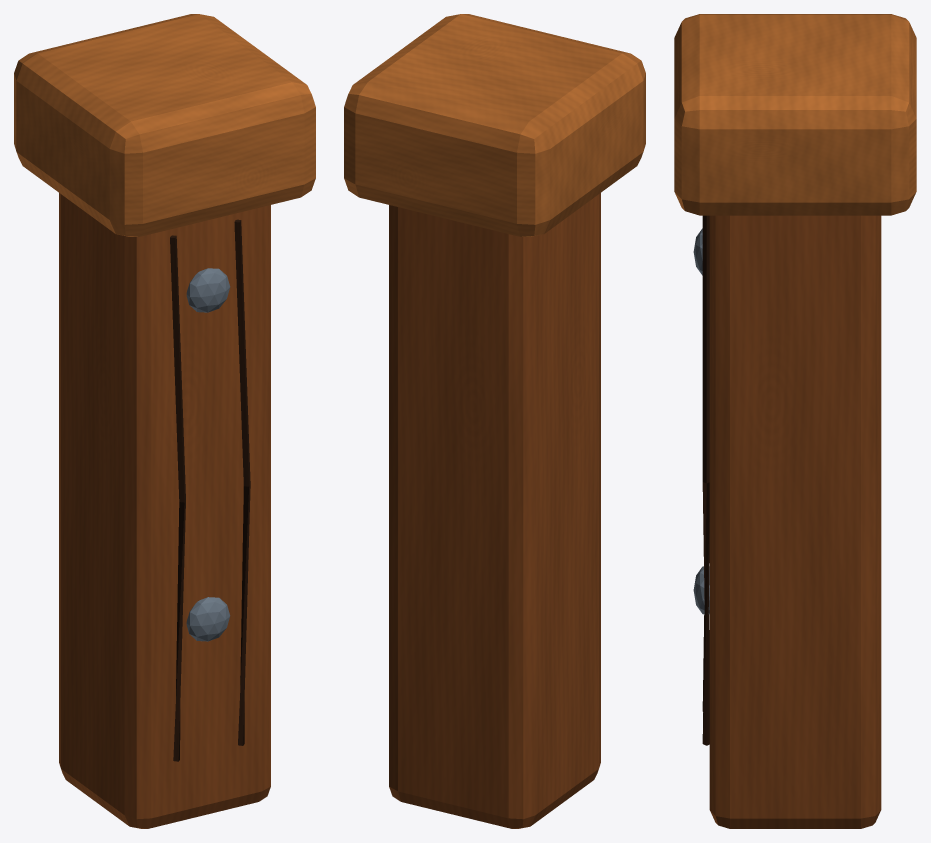
File: forest_bridge_post.glb
3 views of the same model, side by side, from view 1: azimuth 30°, elevation 25°; view 2: azimuth 150°, elevation 25°; view 3: azimuth 270°, elevation 25° (orthographic). The views are drawn at different scales.
Parts seen in each view (by area): view 1: Bridge rail upright, Bridge post cap, Bridge post fine grain.001, Bridge post fine grain, Bridge post iron peg.001, Bridge post iron peg; view 2: Bridge rail upright, Bridge post cap; view 3: Bridge rail upright, Bridge post cap, Bridge post fine grain.001, Bridge post iron peg.
Boxes of the visible parts, bbox=[...] form: Bridge rail upright: bbox=[59, 193, 270, 828]; Bridge post cap: bbox=[14, 14, 315, 236]; Bridge post fine grain.001: bbox=[234, 219, 250, 745]; Bridge post fine grain: bbox=[170, 235, 185, 761]; Bridge post iron peg.001: bbox=[186, 268, 230, 312]; Bridge post iron peg: bbox=[186, 597, 230, 641]; Bridge rail upright: bbox=[389, 193, 600, 828]; Bridge post cap: bbox=[344, 14, 645, 236]; Bridge rail upright: bbox=[709, 215, 881, 828]; Bridge post cap: bbox=[674, 14, 916, 215]; Bridge post fine grain.001: bbox=[702, 215, 709, 745]; Bridge post iron peg: bbox=[693, 566, 709, 614].
Bounding box in the file's own units: 0.24 × 0.815 × 0.24.
Materials: 4 (3 with a texture image).
